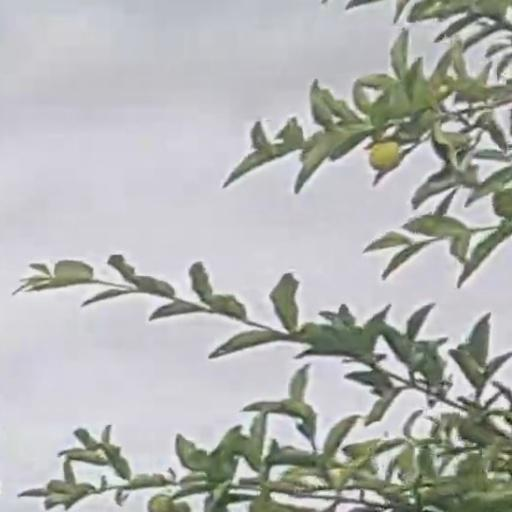acerola: (370, 142, 400, 172)
